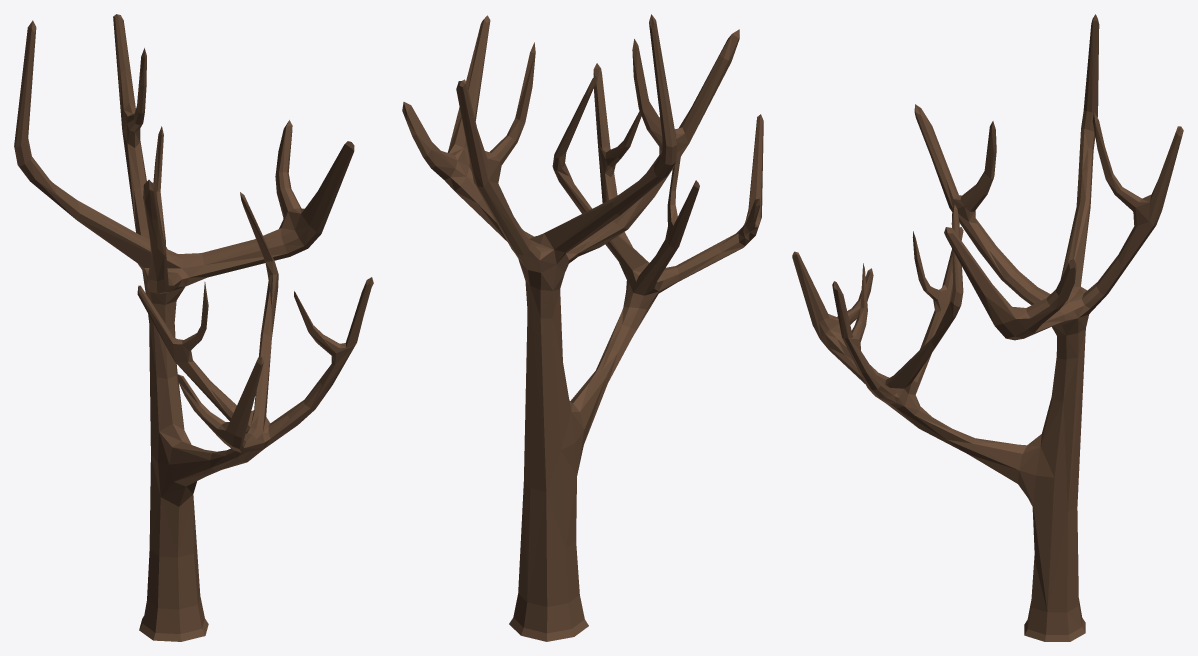
The model's file is CommonTree_Dead_2.glb.
The picture shows the model from 3 angles, left to right: view 1: azimuth 30°, elevation 25°; view 2: azimuth 150°, elevation 25°; view 3: azimuth 270°, elevation 25°; orthographic projection. The views are drawn at different scales.
Visible parts, largest first — view 1: CommonTree_Dead_2; view 2: CommonTree_Dead_2; view 3: CommonTree_Dead_2.
Boxes of the visible parts, x1,y1,x2,y2 form: CommonTree_Dead_2: (14, 14, 373, 641); CommonTree_Dead_2: (402, 14, 763, 641); CommonTree_Dead_2: (792, 14, 1183, 641).
Bounding box in the file's own units: 1.33 × 2.96 × 1.86.
